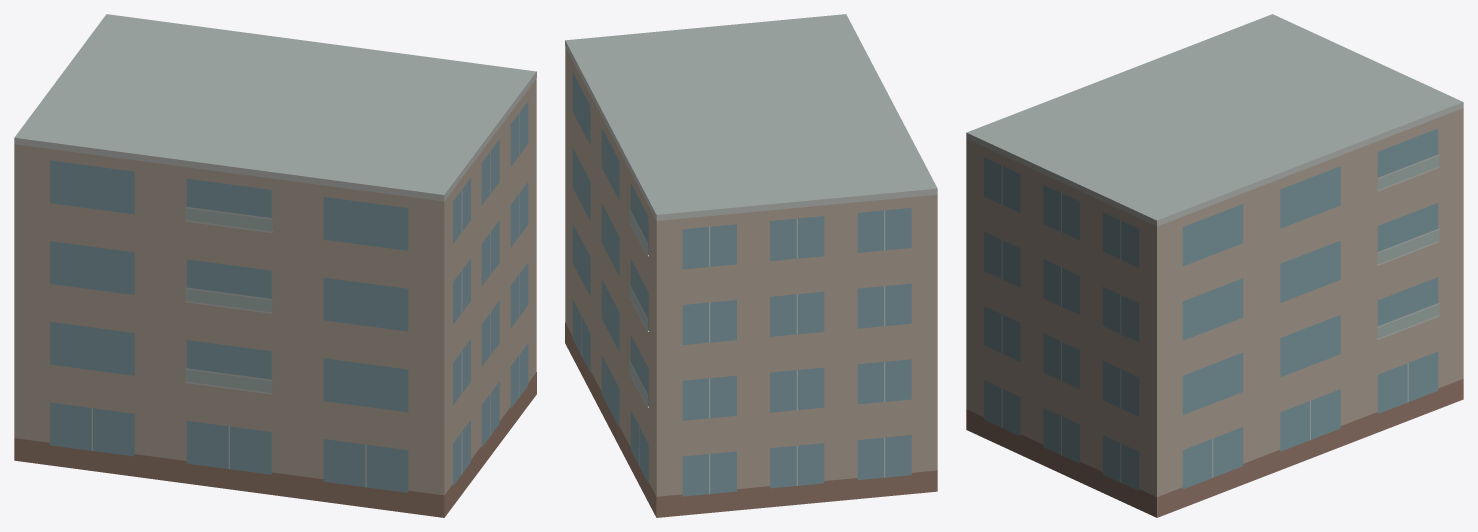
Rendered from residential-c4cefbbc-8ecc-4ba6-bb4f-5caecd8756e3.glb.
3 views of the same model, side by side, from view 1: azimuth 30°, elevation 25°; view 2: azimuth 150°, elevation 25°; view 3: azimuth 270°, elevation 25° (orthographic). The views are drawn at different scales.
Parts seen in each view (by area): view 1: residential-c4cefbbc-8ecc-4ba6-bb4f-5caecd8756e3.tmp; view 2: residential-c4cefbbc-8ecc-4ba6-bb4f-5caecd8756e3.tmp; view 3: residential-c4cefbbc-8ecc-4ba6-bb4f-5caecd8756e3.tmp.
Boxes of the visible parts, left/top/right/bottom form: residential-c4cefbbc-8ecc-4ba6-bb4f-5caecd8756e3.tmp: left=14, top=14, right=536, bottom=517; residential-c4cefbbc-8ecc-4ba6-bb4f-5caecd8756e3.tmp: left=565, top=14, right=937, bottom=517; residential-c4cefbbc-8ecc-4ba6-bb4f-5caecd8756e3.tmp: left=966, top=14, right=1463, bottom=517.
Bounding box in the file's own units: 18.19 × 12.2 × 18.5.
